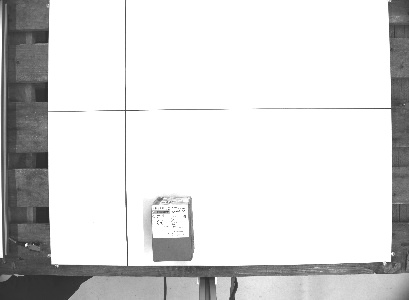b4: (148, 193, 195, 263)
